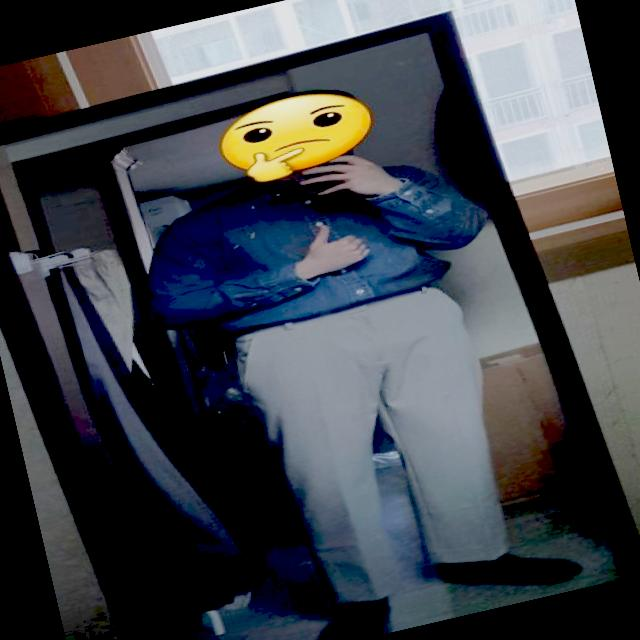shirt: (122, 130, 497, 360)
slacks: (238, 276, 530, 616)
